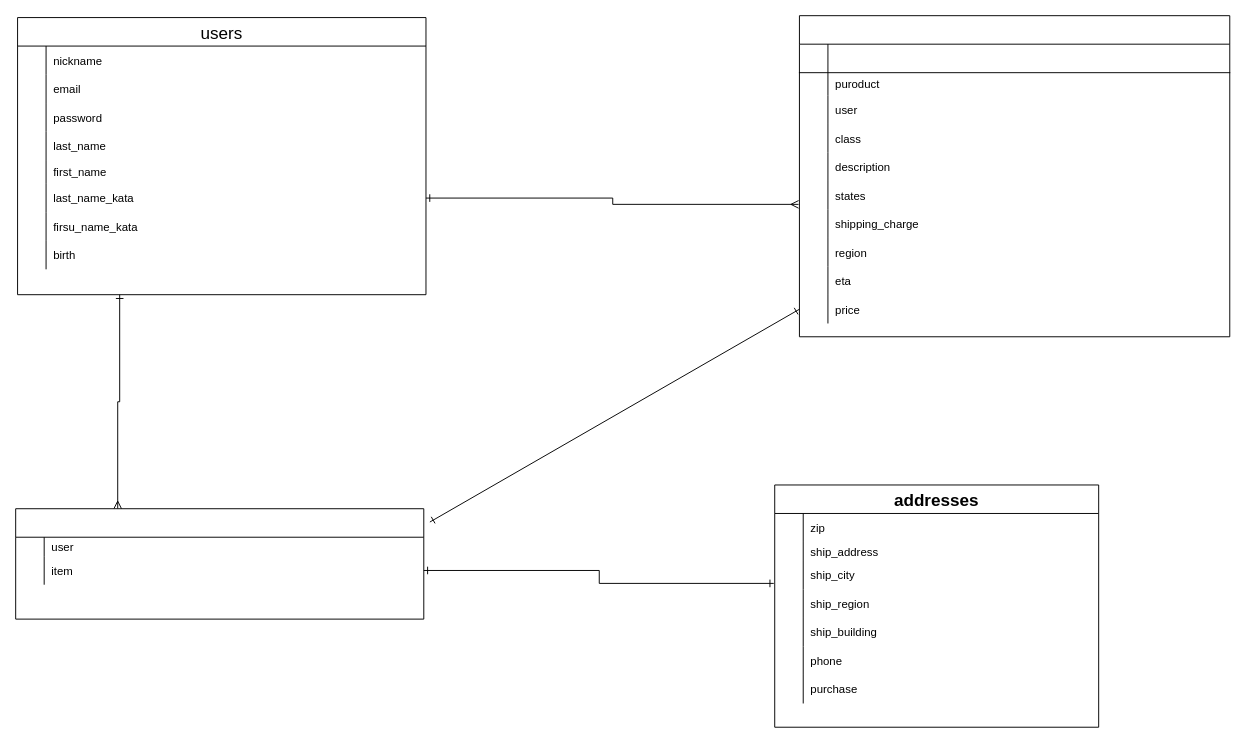
Some shapes in this 1245 by 743 pixel diagram are drawn without their labels. Each missing label, with the box of its shape:
items: (798, 15, 1230, 337)
purchases: (15, 508, 424, 619)
